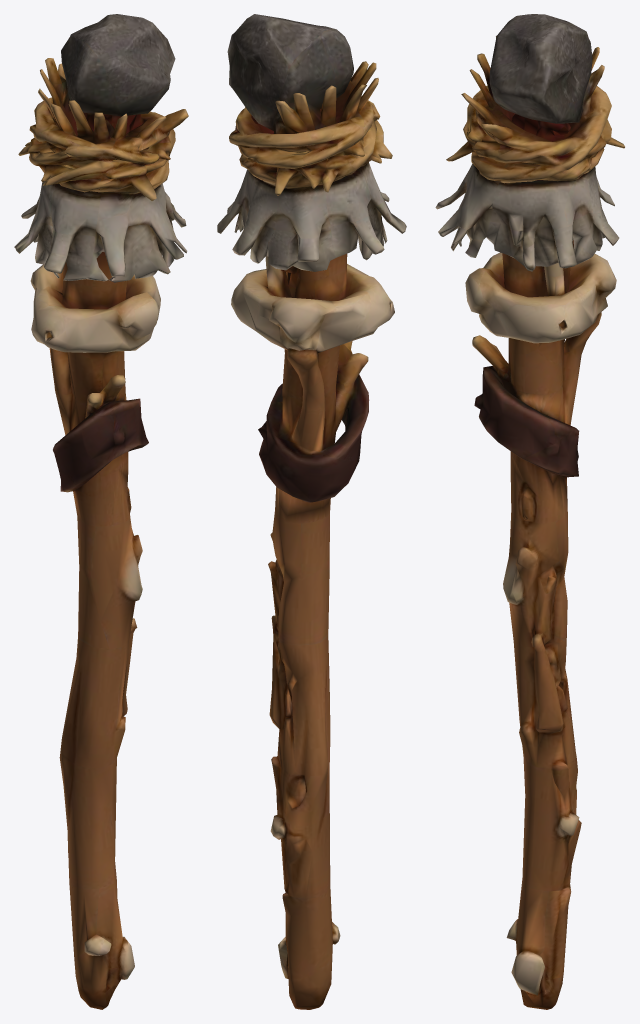
The model's file is antorcha.glb.
3 renders of one model, left to right at view 1: azimuth 30°, elevation 25°; view 2: azimuth 150°, elevation 25°; view 3: azimuth 270°, elevation 25°, orthographic. The views are drawn at different scales.
Visible parts, largest first — view 1: tripo_node_dfd9895b-4ef5-4e2a-8a69-fa5e4c4b3b8d; view 2: tripo_node_dfd9895b-4ef5-4e2a-8a69-fa5e4c4b3b8d; view 3: tripo_node_dfd9895b-4ef5-4e2a-8a69-fa5e4c4b3b8d.
Part boxes in pixels (x1,y1,x2,y2): tripo_node_dfd9895b-4ef5-4e2a-8a69-fa5e4c4b3b8d: [14, 14, 188, 1009]; tripo_node_dfd9895b-4ef5-4e2a-8a69-fa5e4c4b3b8d: [217, 14, 406, 1009]; tripo_node_dfd9895b-4ef5-4e2a-8a69-fa5e4c4b3b8d: [435, 14, 624, 1009].
Size of the model in its own units: 0.1733 by 0.9988 by 0.1723.
Materials: 1 (1 with a texture image).
